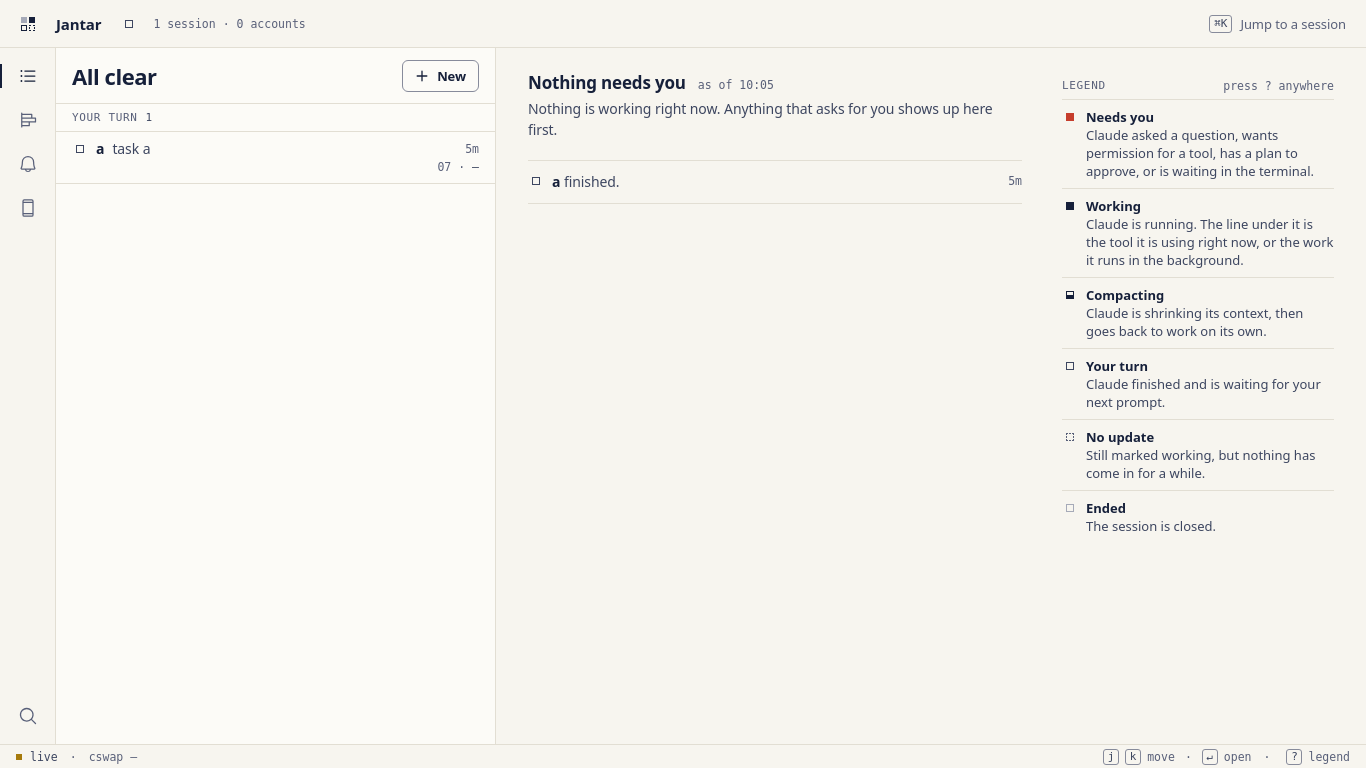
a row's menu › opens on a right click and starts a new session in that folder, on that account
The width and height of the screenshot is (1366, 768).
Right-click the link "a task a 5m 07 · –" at (131, 148), box [56, 132, 495, 184]
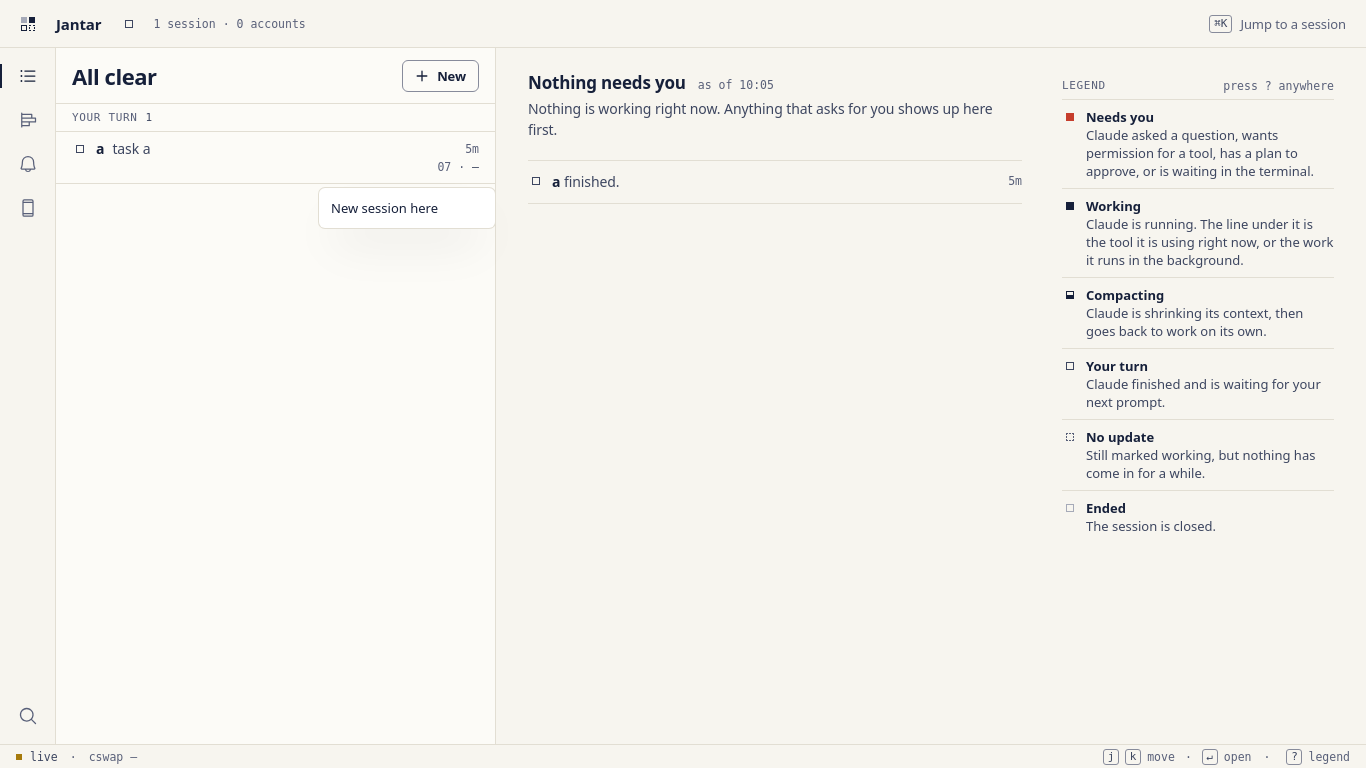
Click the menu item "New session here" at (384, 208), box [331, 199, 438, 217]
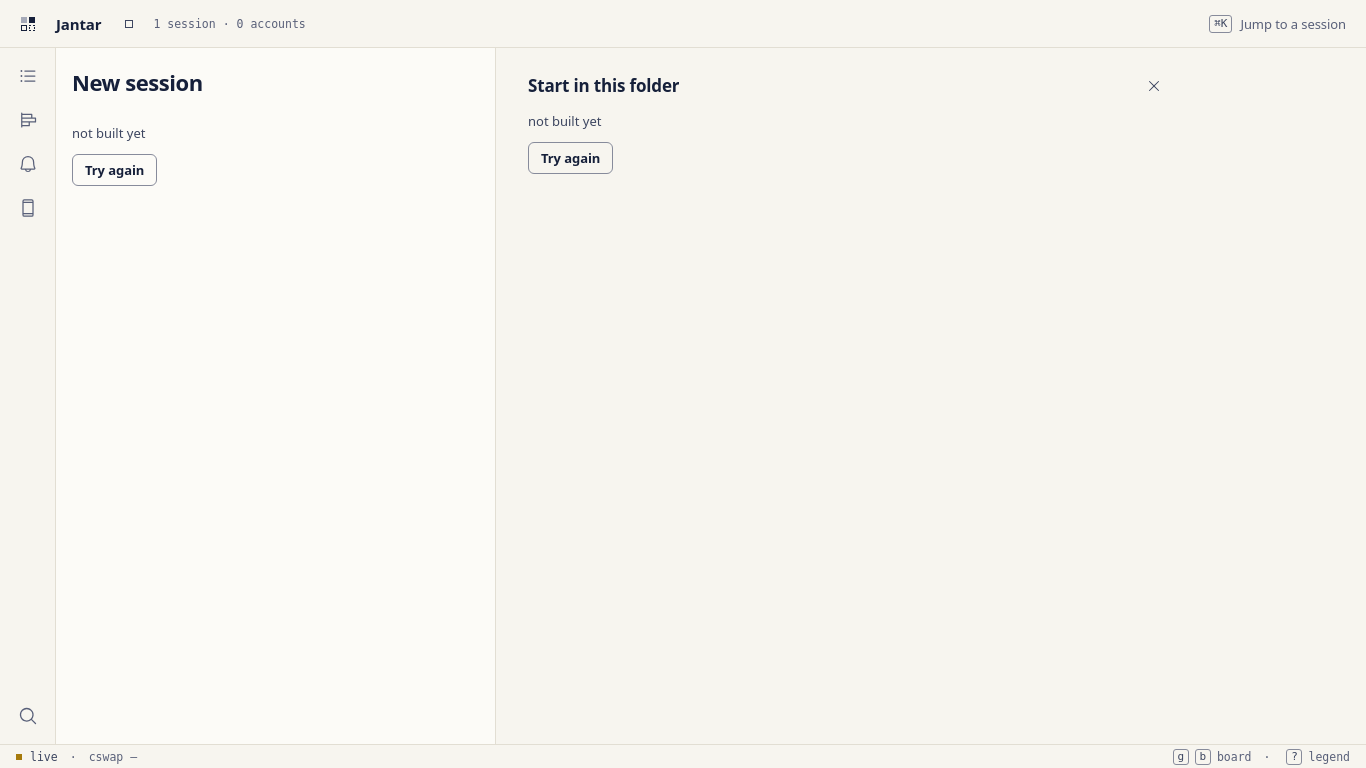
Now the menu is gone
